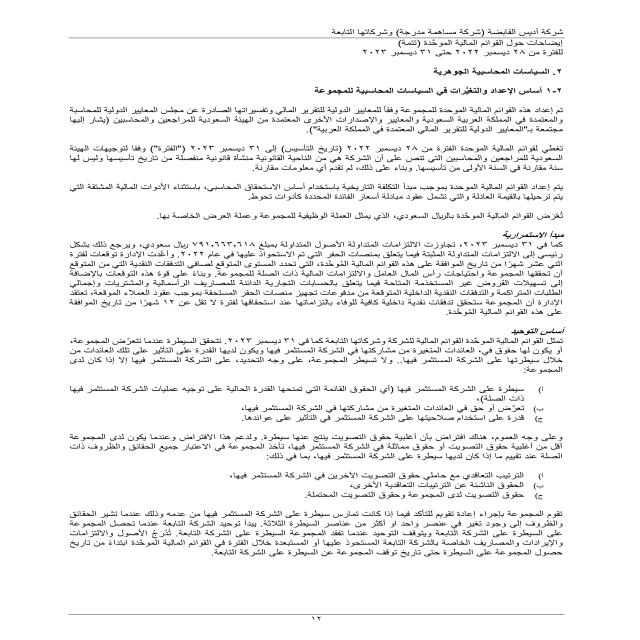notes: (394, 40, 565, 50)
text: (26, 65, 590, 588)
